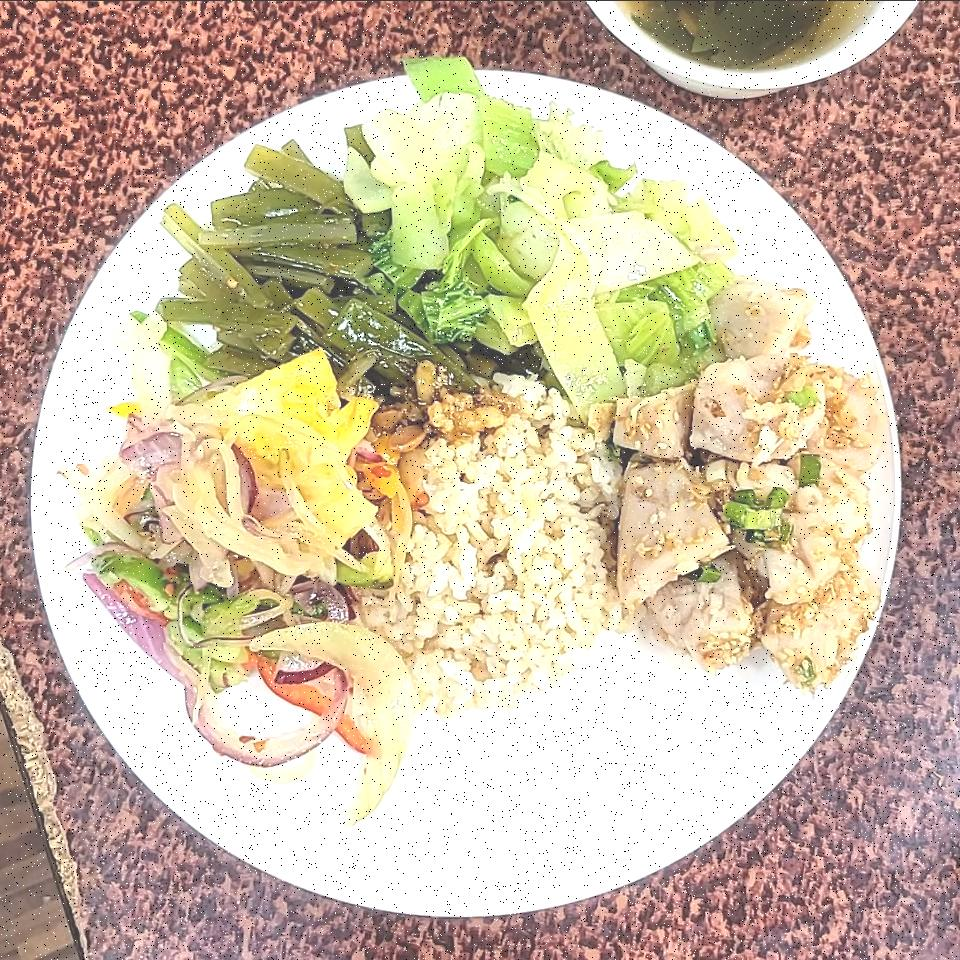big fried chicken leg: (22, 58, 914, 918)
box: (346, 374, 618, 724)
braised fish fillet: (53, 375, 400, 796), (370, 76, 718, 394), (168, 158, 445, 398)
braised pork: (606, 279, 877, 686)
